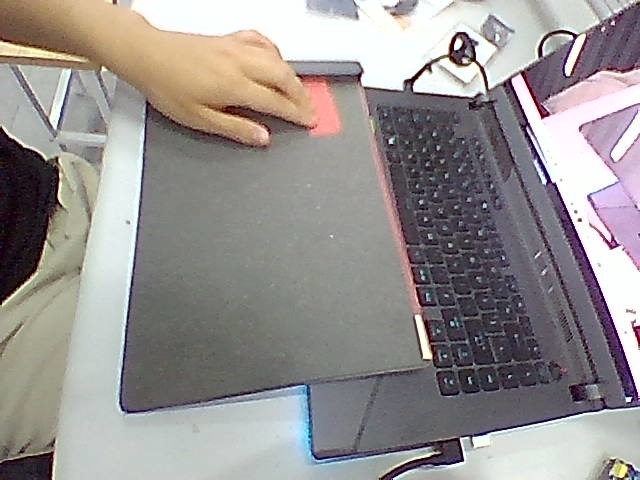card: (304, 77, 342, 137)
